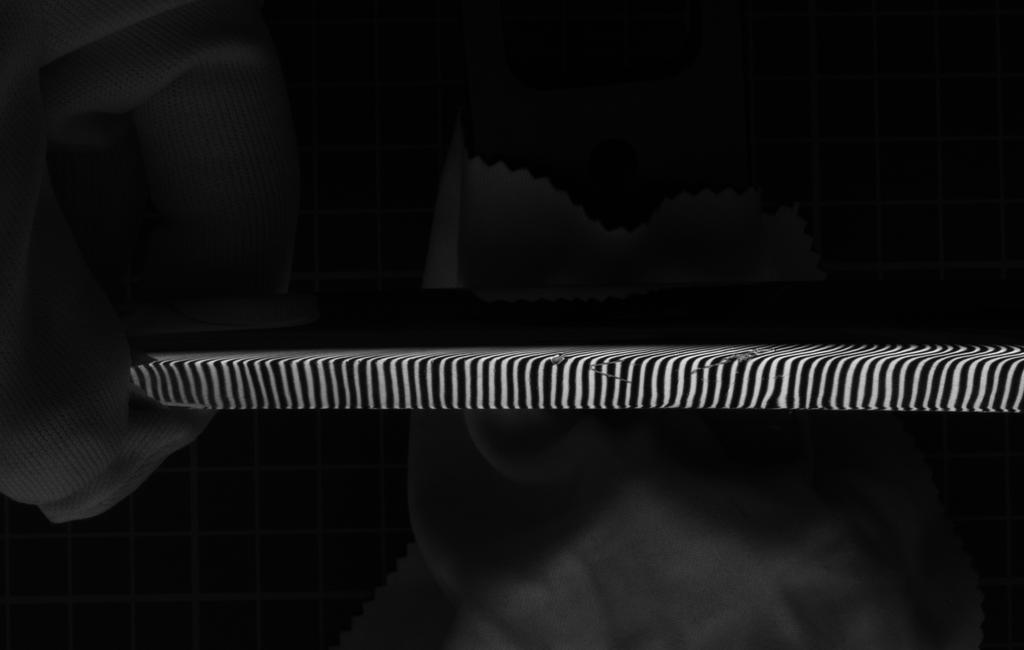Pierced: (546, 349, 568, 368)
Scratch: (679, 344, 789, 379), (581, 356, 660, 391)
